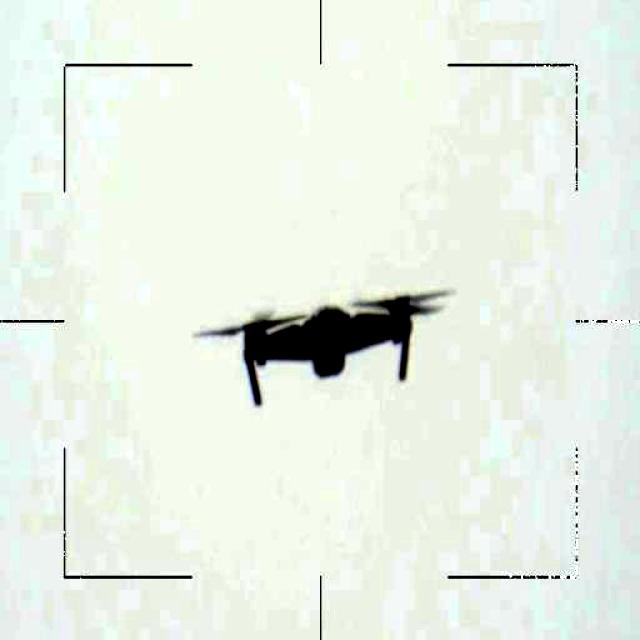bird: (201, 282, 461, 415)
